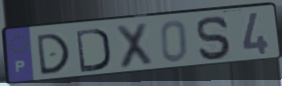0: (158, 19, 190, 66)
4: (240, 11, 271, 58)
D: (74, 26, 113, 74), (35, 32, 72, 78)
S: (195, 14, 235, 62)
X: (113, 20, 155, 71)
